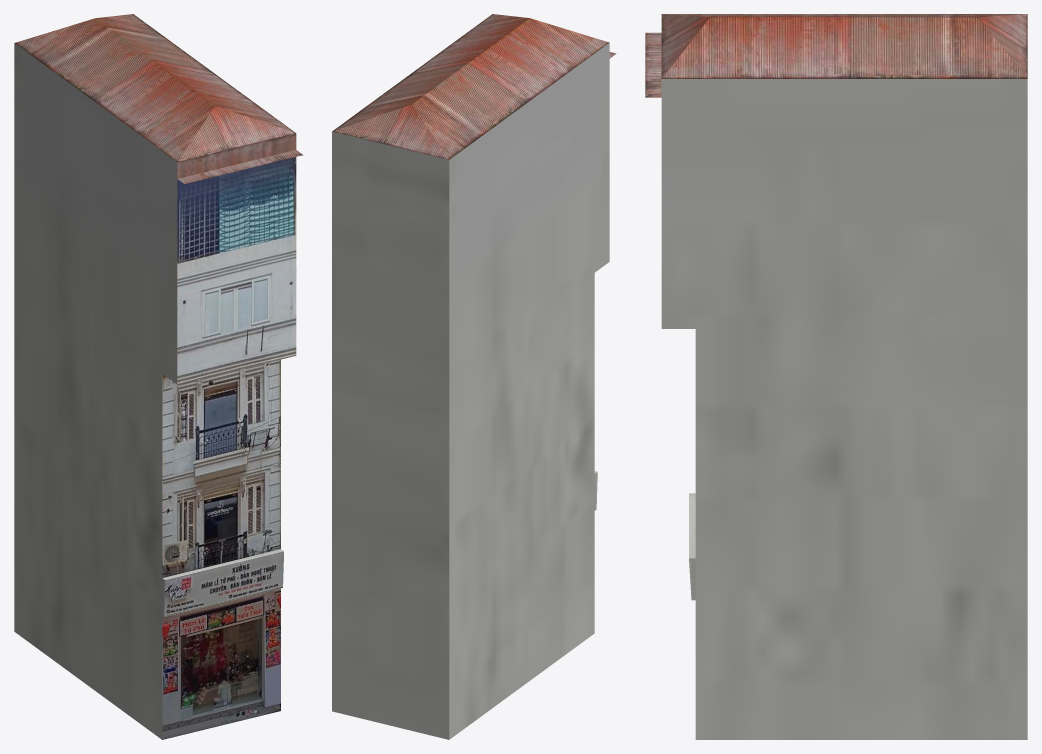
3 renders of one model, left to right at view 1: azimuth 30°, elevation 25°; view 2: azimuth 150°, elevation 25°; view 3: azimuth 270°, elevation 25°, orthographic. The views are drawn at different scales.
Parts seen in each view (by area): view 1: HN1014___Huan_Oanh_Mam_Le_Tu_Phu; view 2: HN1014___Huan_Oanh_Mam_Le_Tu_Phu; view 3: HN1014___Huan_Oanh_Mam_Le_Tu_Phu.
Part boxes in pixels (left/top/right/bottom): HN1014___Huan_Oanh_Mam_Le_Tu_Phu: left=14, top=14, right=303, bottom=739; HN1014___Huan_Oanh_Mam_Le_Tu_Phu: left=332, top=14, right=616, bottom=739; HN1014___Huan_Oanh_Mam_Le_Tu_Phu: left=645, top=14, right=1027, bottom=739.
Size of the model in its own units: 3.6 by 17.8 by 8.93.
1 material, 1 textured.
